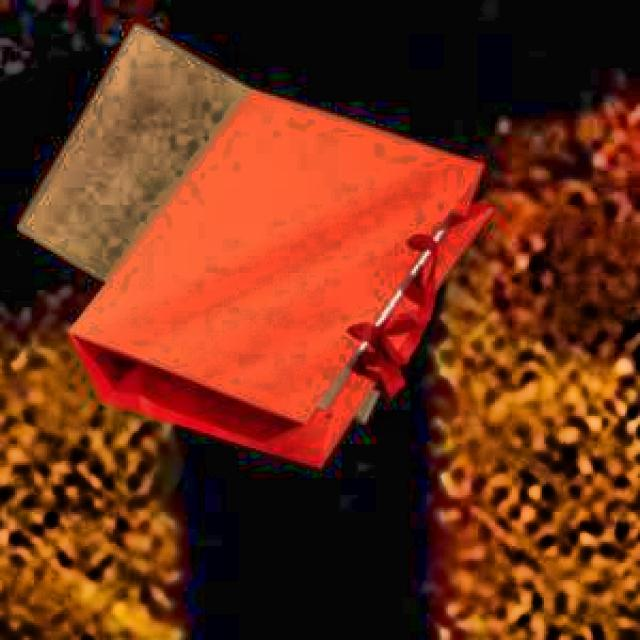Paper-bag: (73, 86, 508, 493), (10, 18, 419, 380)
